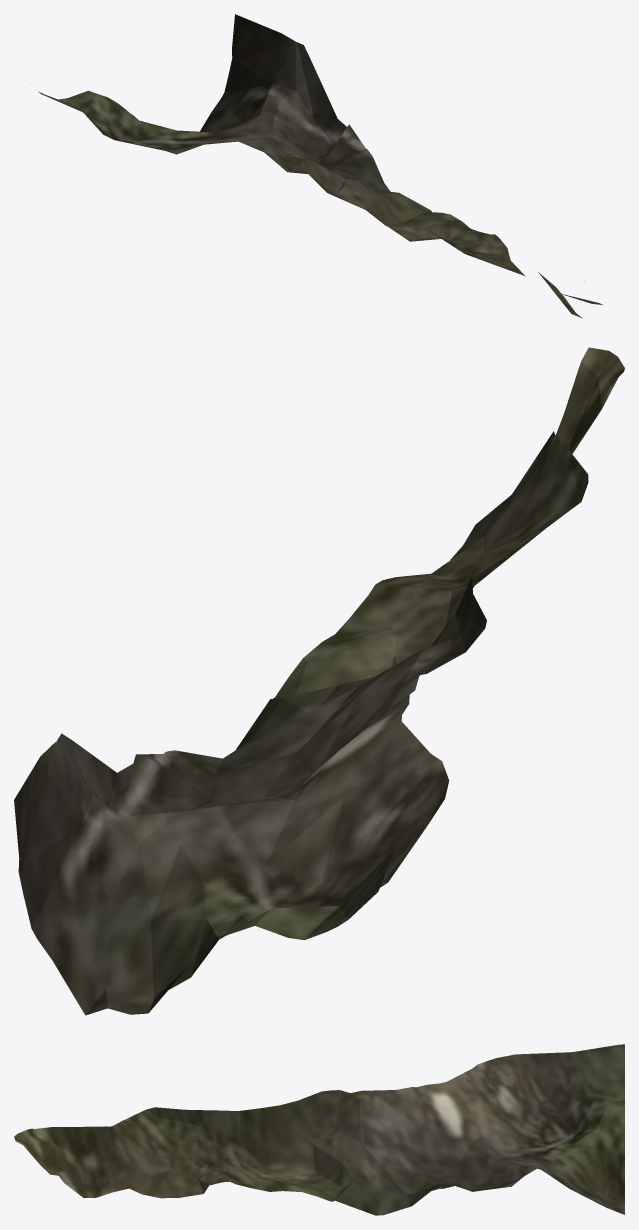
The picture shows the model from 3 angles, top to bottom: view 1: azimuth 30°, elevation 25°; view 2: azimuth 150°, elevation 25°; view 3: azimuth 270°, elevation 25°; orthographic projection. The views are drawn at different scales.
Size of the model in its own units: 1.09 by 0.5234 by 2.92.
1 material, 1 textured.
